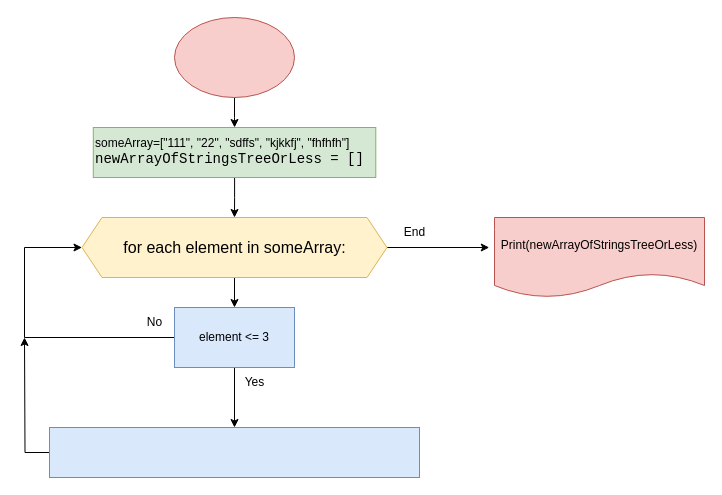
Some shapes in this 722 by 495 pixel diagram are drawn without their labels. The centre of each missing label's shape, as x and y in pixels:
newArrayOfStringsTreeOrLess.appand(element): point 234,452
start: point 234,57
